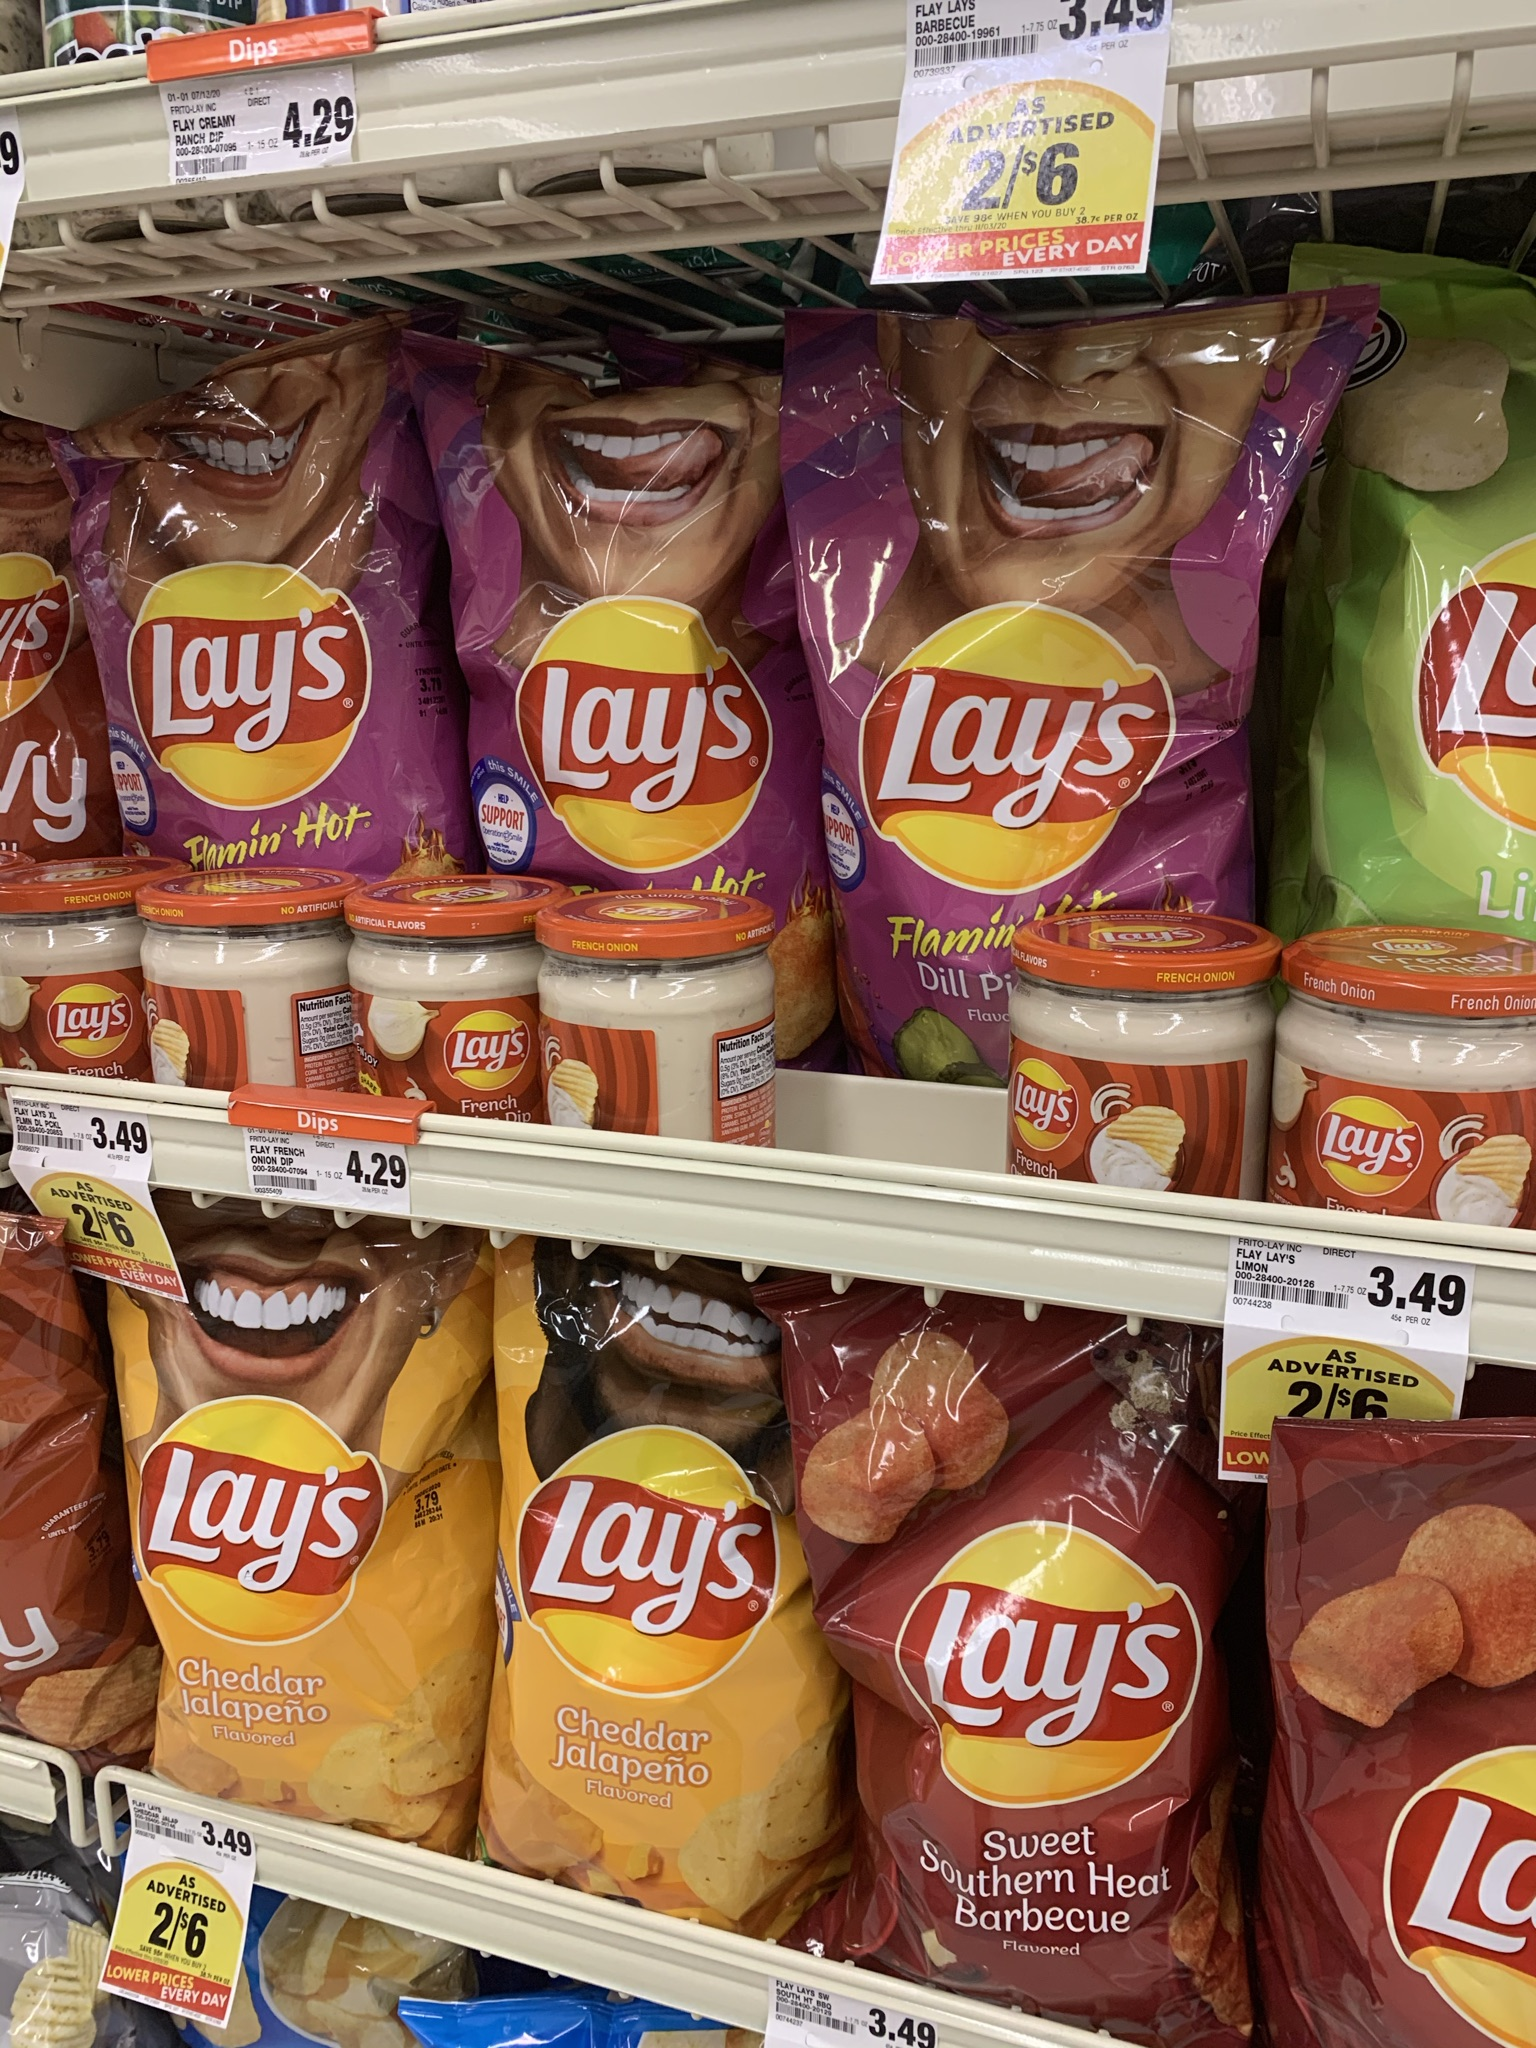lays: (802, 326, 1213, 939), (844, 1292, 1179, 1979), (502, 1251, 820, 1945), (89, 1211, 452, 1793), (444, 379, 797, 934), (73, 439, 461, 885), (1304, 240, 1536, 943), (1271, 1435, 1530, 2038)
